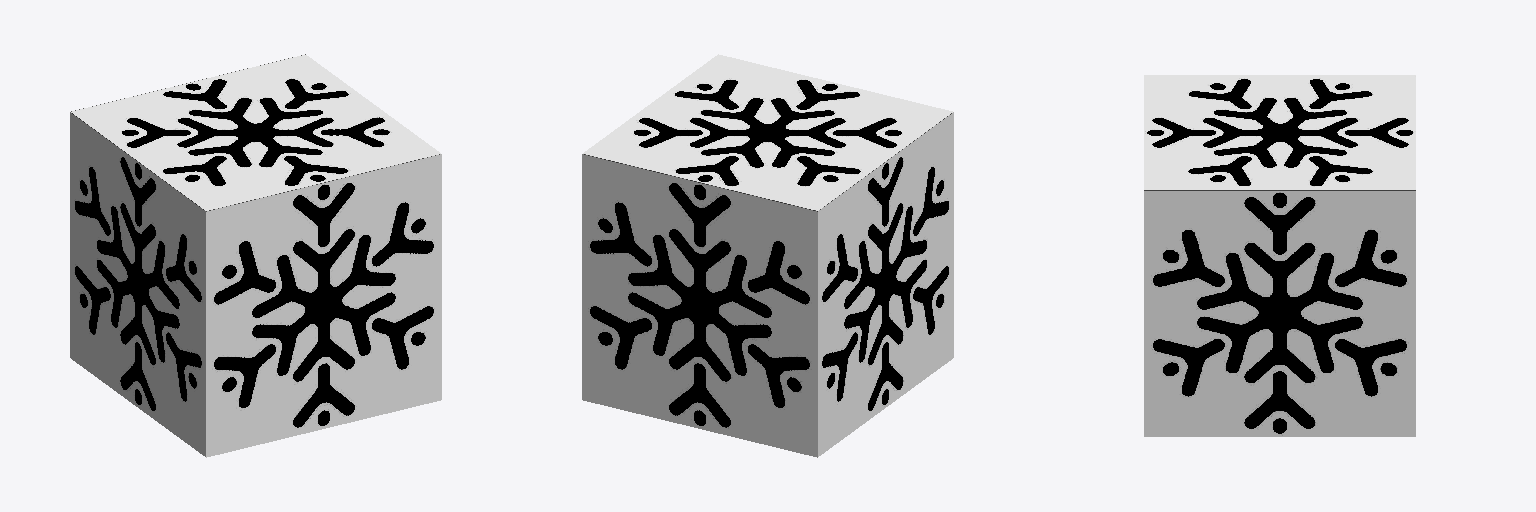
3 renders of one model, left to right at view 1: azimuth 30°, elevation 25°; view 2: azimuth 150°, elevation 25°; view 3: azimuth 270°, elevation 25°, orthographic.
Parts seen in each view (by area): view 1: Box001; view 2: Box001; view 3: Box001.
Part boxes in pixels (bbox=[...]): Box001: bbox=[70, 54, 441, 457]; Box001: bbox=[582, 54, 953, 457]; Box001: bbox=[1144, 75, 1415, 436].
Bounding box in the file's own units: 1 × 1 × 1.
Materials: 1 (1 with a texture image).